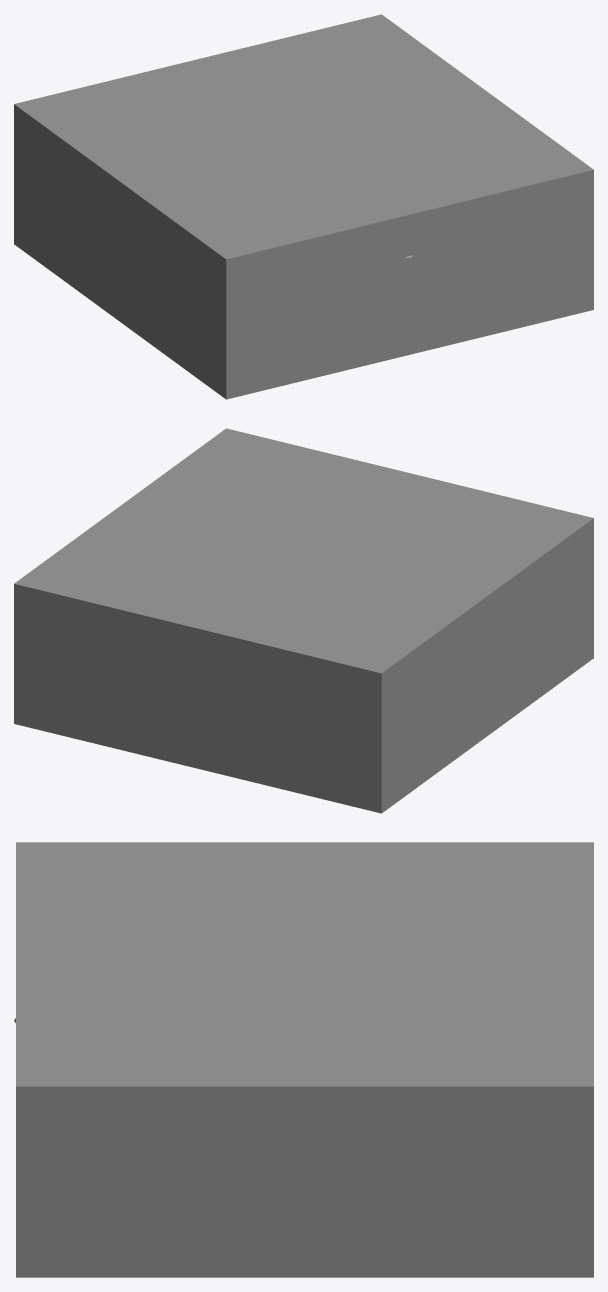
The model's file is Scene_Object_TianShan_HuoPen_01.FBX.
The picture shows the model from 3 angles, top to bottom: view 1: azimuth 30°, elevation 25°; view 2: azimuth 150°, elevation 25°; view 3: azimuth 270°, elevation 25°; orthographic projection. The views are drawn at different scales.
Parts seen in each view (by area): view 1: Scene_Object_TianShan_HuoPen_01_Xzm; view 2: Scene_Object_TianShan_HuoPen_01_Xzm; view 3: Scene_Object_TianShan_HuoPen_01_Xzm.
Boxes of the visible parts, bbox=[...] form: Scene_Object_TianShan_HuoPen_01_Xzm: bbox=[14, 14, 593, 399]; Scene_Object_TianShan_HuoPen_01_Xzm: bbox=[14, 428, 593, 813]; Scene_Object_TianShan_HuoPen_01_Xzm: bbox=[16, 842, 593, 1277].
Bounding box in the file's own units: 133 × 48.94 × 133.
